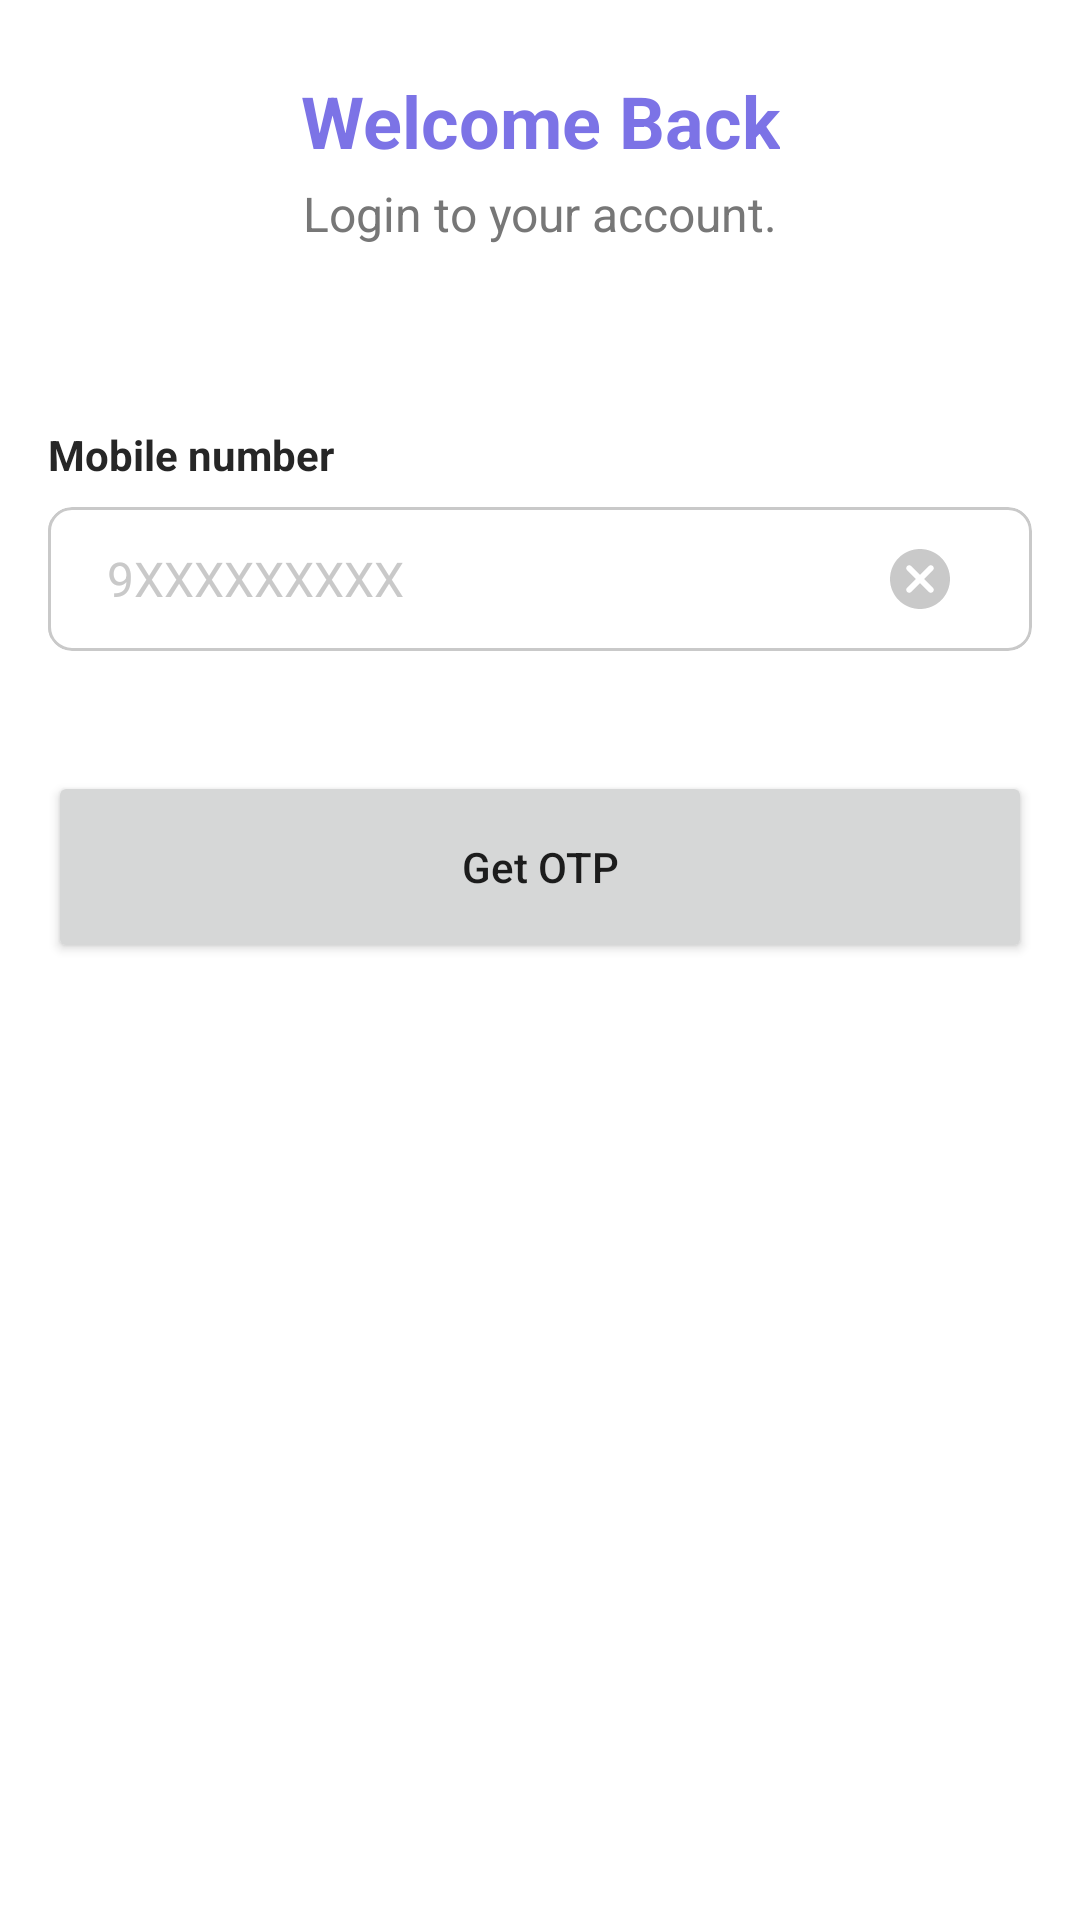

Screen size 1080 × 1920. Icon name, then its box in pixels as (x1, y1, x2, y2):
cancel: (890, 549, 950, 609)
